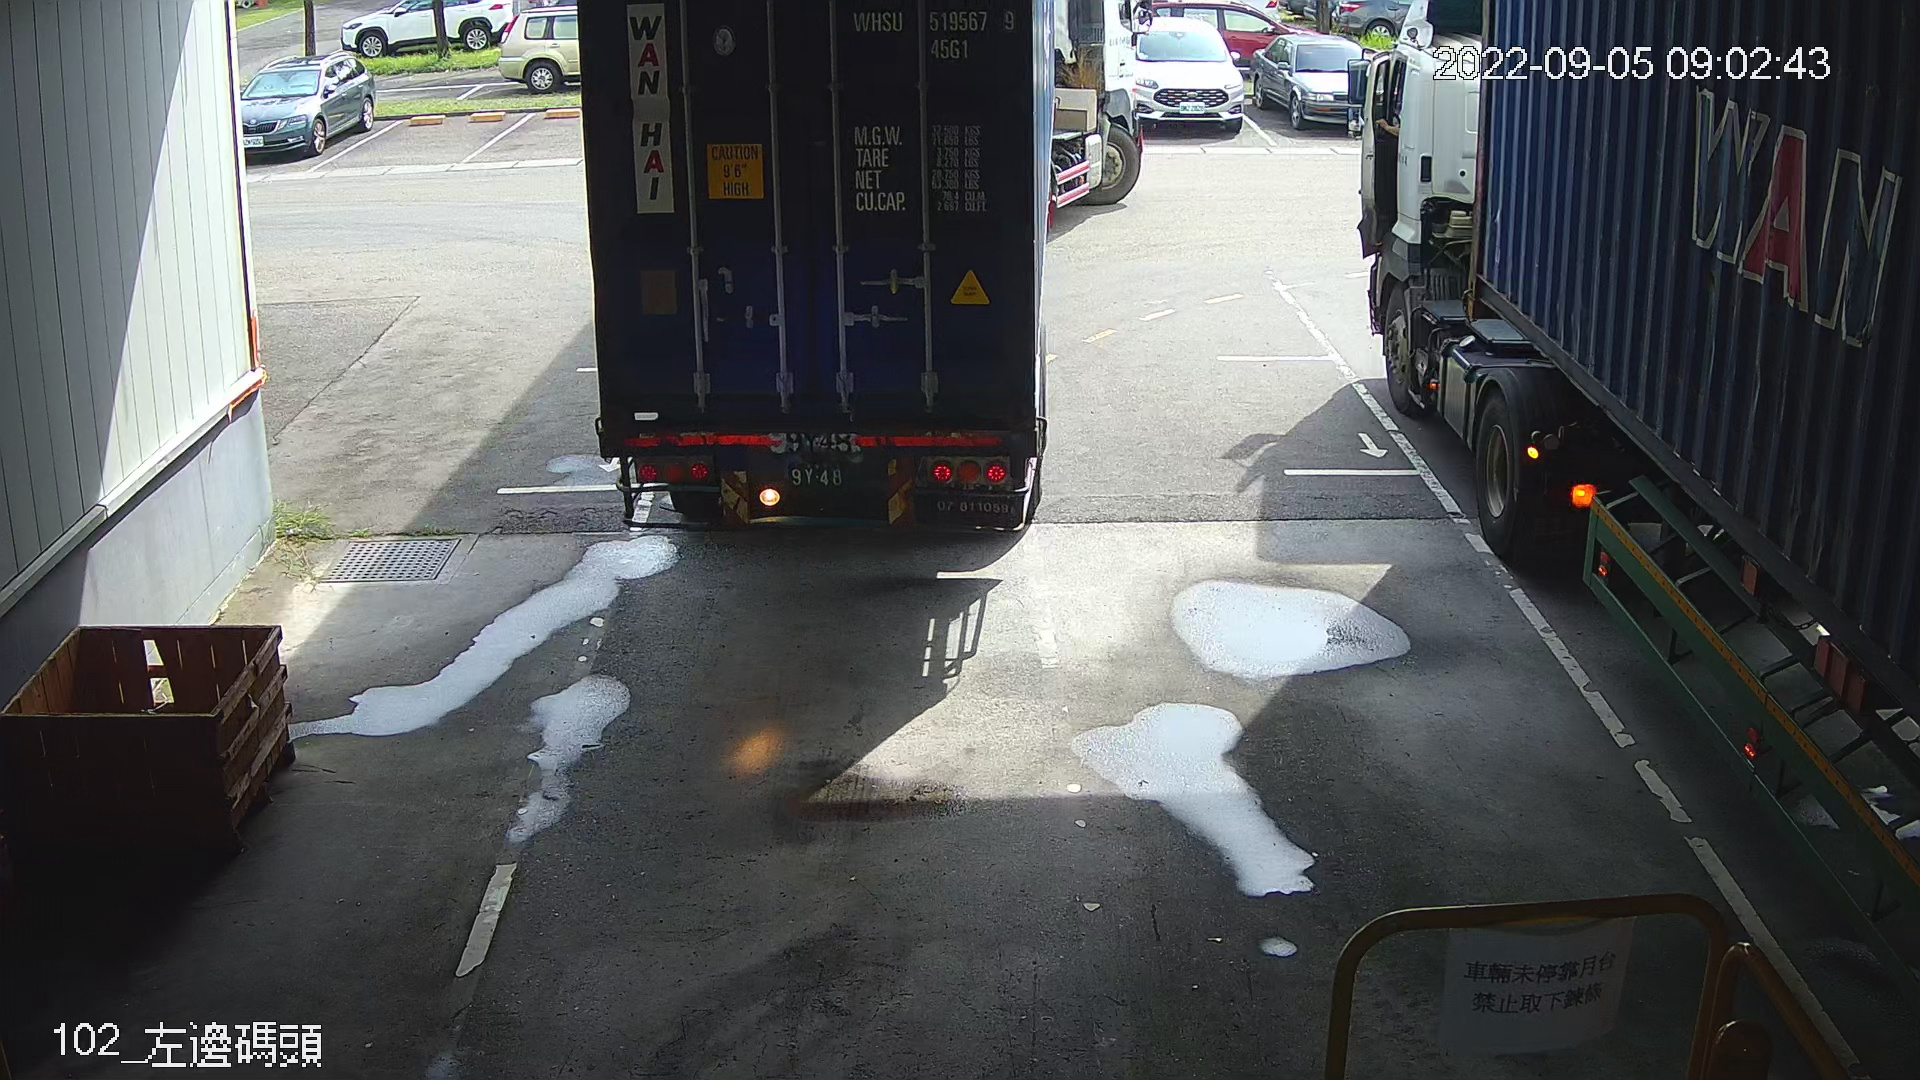container: (848, 3, 1023, 70)
